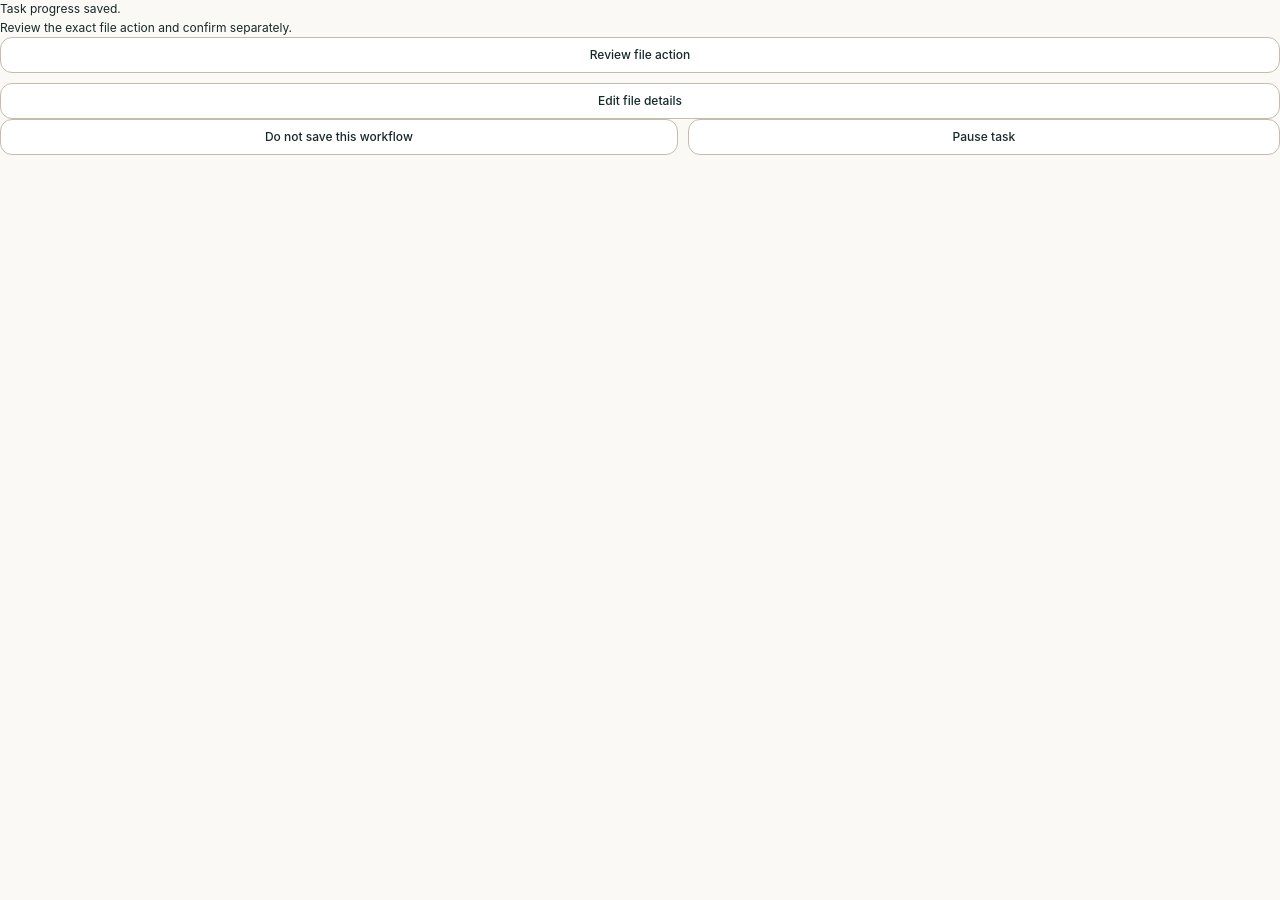
Scenario: independently confirms gallery.photo.edit through its native API without a mount or preparation write
Later steps or results of the test are not shown.
Click the button "Review file action" at [640, 55], box [0,37,1279,73]
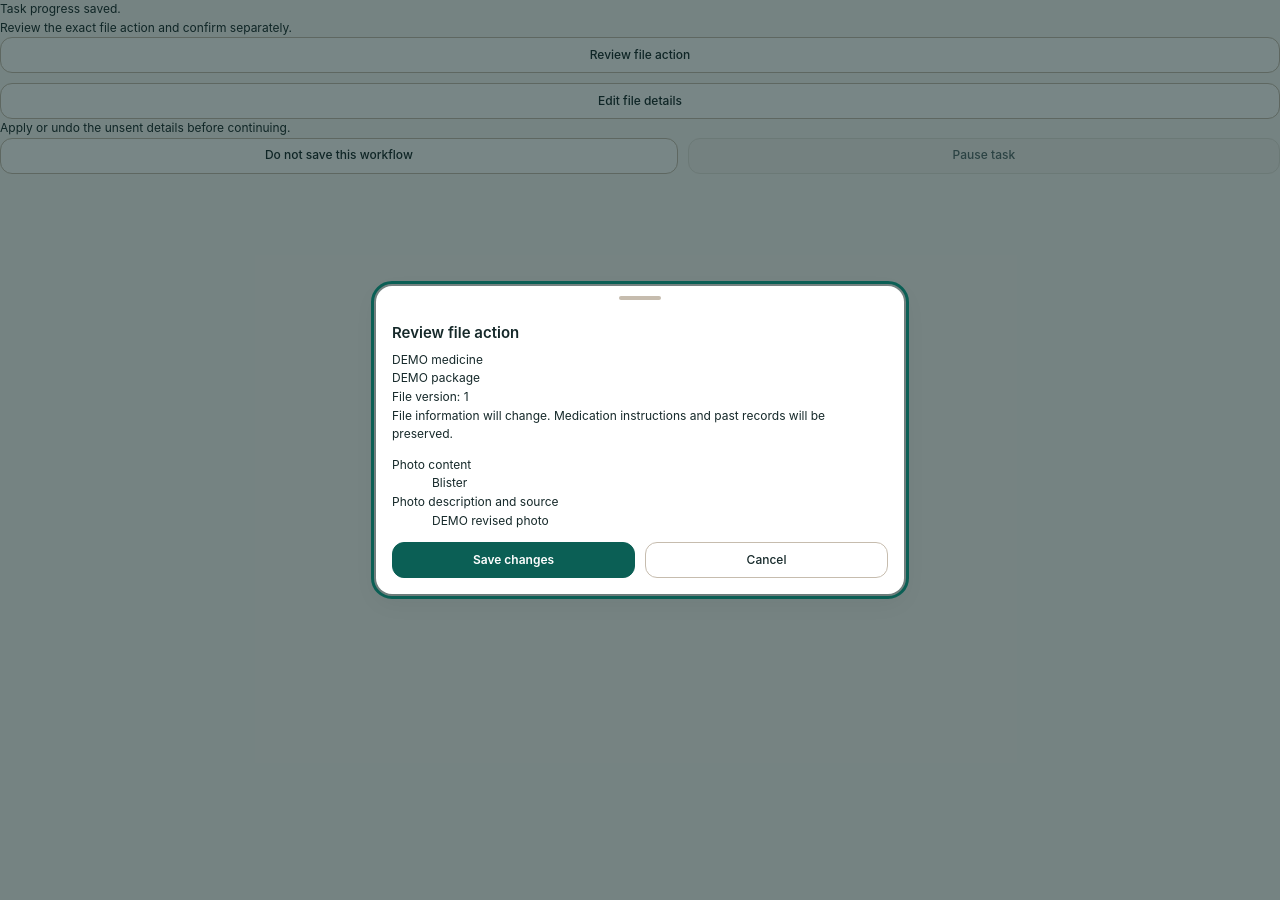
Check: the dialog shows "DEMO medicine", box [392,352,483,367]
Check: the dialog shows "DEMO package", box [392,370,480,385]
